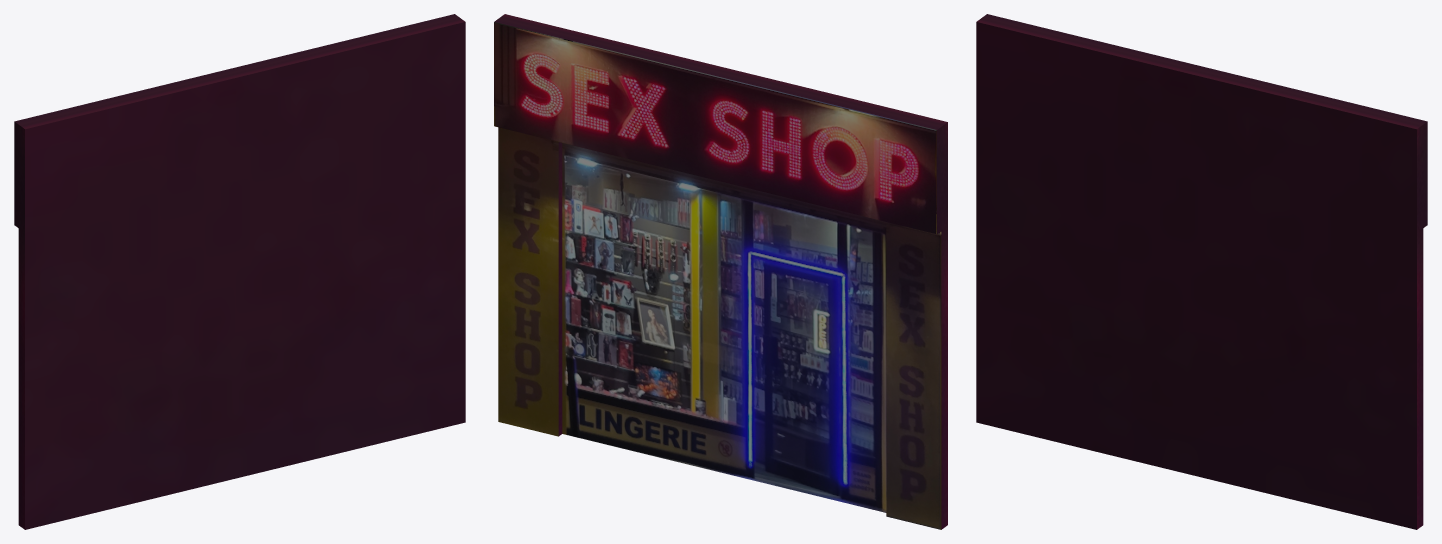
File: Shop9.fbx
3 views of the same model, side by side, from view 1: azimuth 30°, elevation 25°; view 2: azimuth 150°, elevation 25°; view 3: azimuth 330°, elevation 25° (orthographic).
Parts seen in each view (by area): view 1: Cube; view 2: Cube; view 3: Cube.
Boxes of the visible parts, bbox=[...] form: Cube: bbox=[14, 14, 465, 529]; Cube: bbox=[494, 14, 947, 529]; Cube: bbox=[976, 14, 1427, 529].
Bounding box in the file's own units: 3.57 × 0.1507 × 3.1.
Materials: 1 (1 with a texture image).
